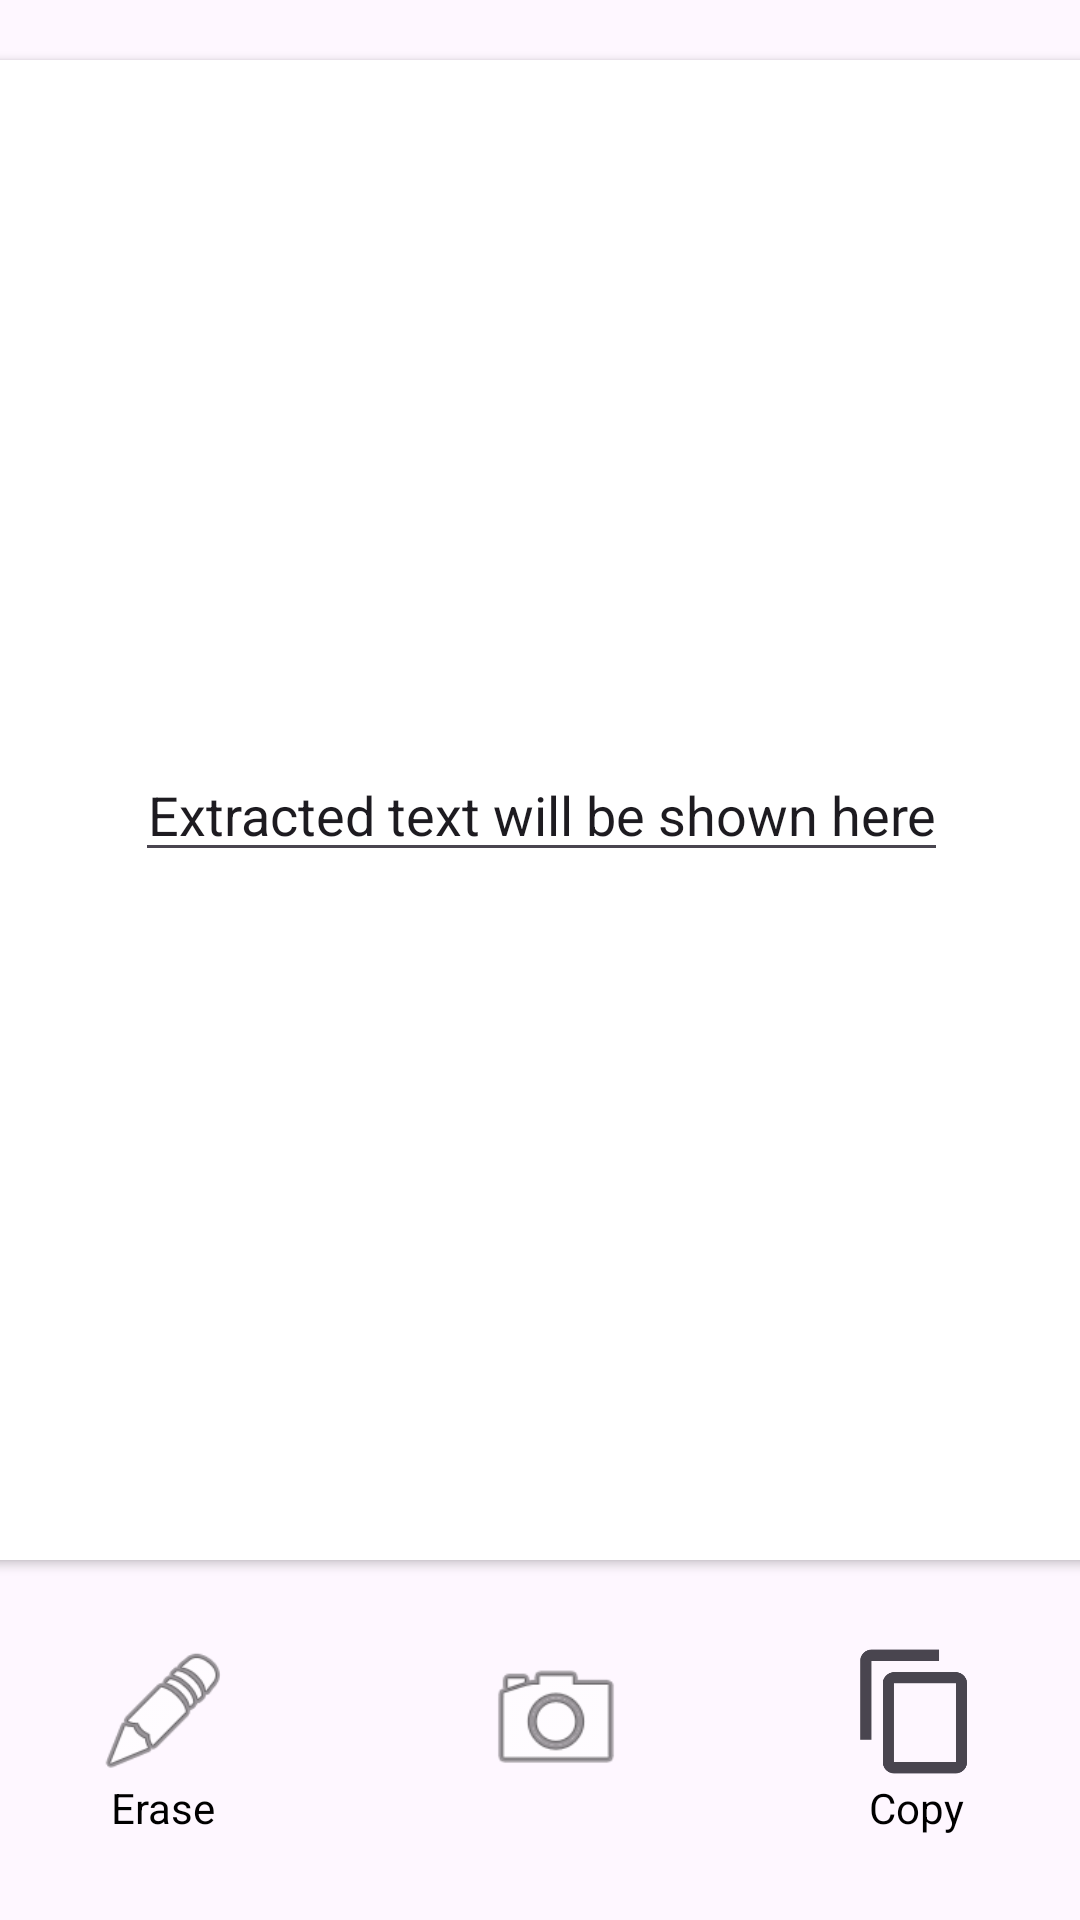

Named icons in this screenshot (1080x1920) and their centers, (x,y):
camera: (556,1716)
edit: (163,1710)
